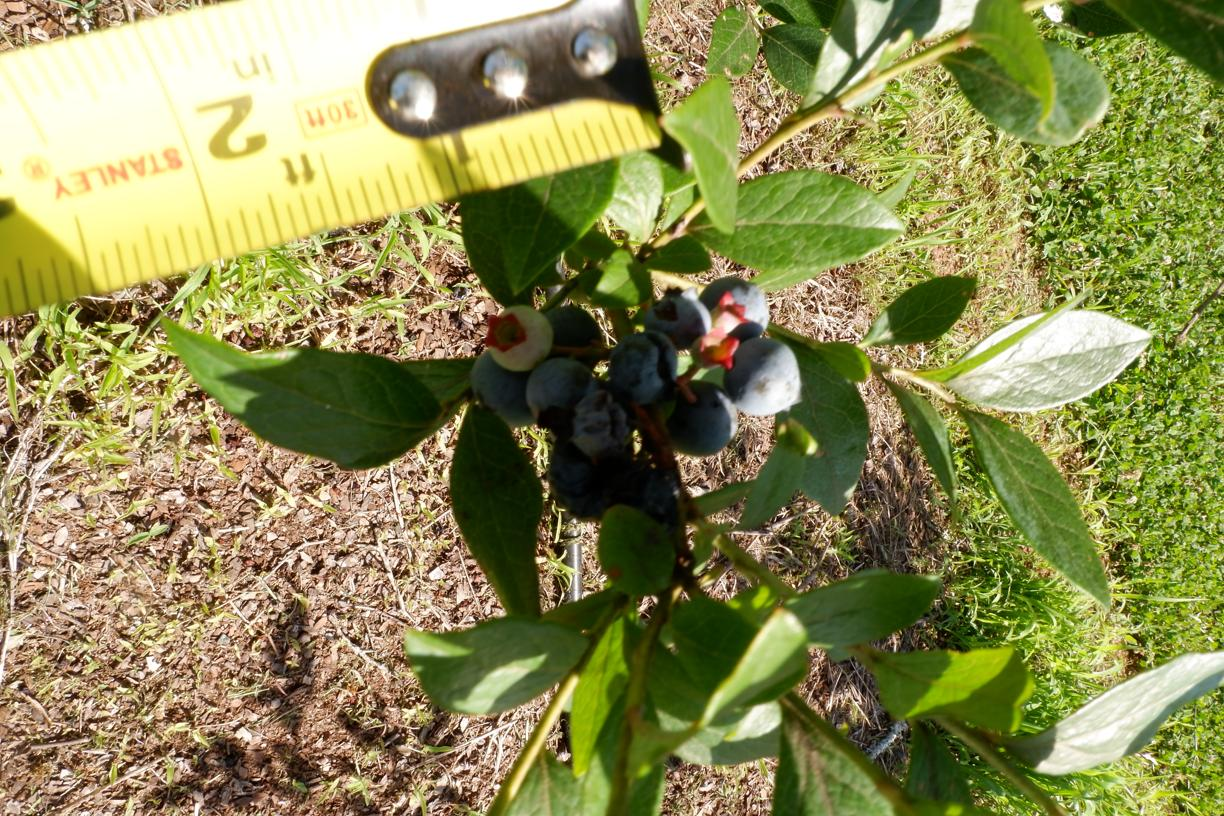Immature: (486, 304, 555, 371)
Mature: (547, 438, 642, 523), (723, 338, 803, 414), (526, 358, 597, 440), (666, 379, 739, 455), (608, 331, 679, 404), (470, 349, 535, 426), (536, 305, 605, 372), (698, 276, 769, 341), (644, 286, 712, 350), (571, 389, 631, 454)
